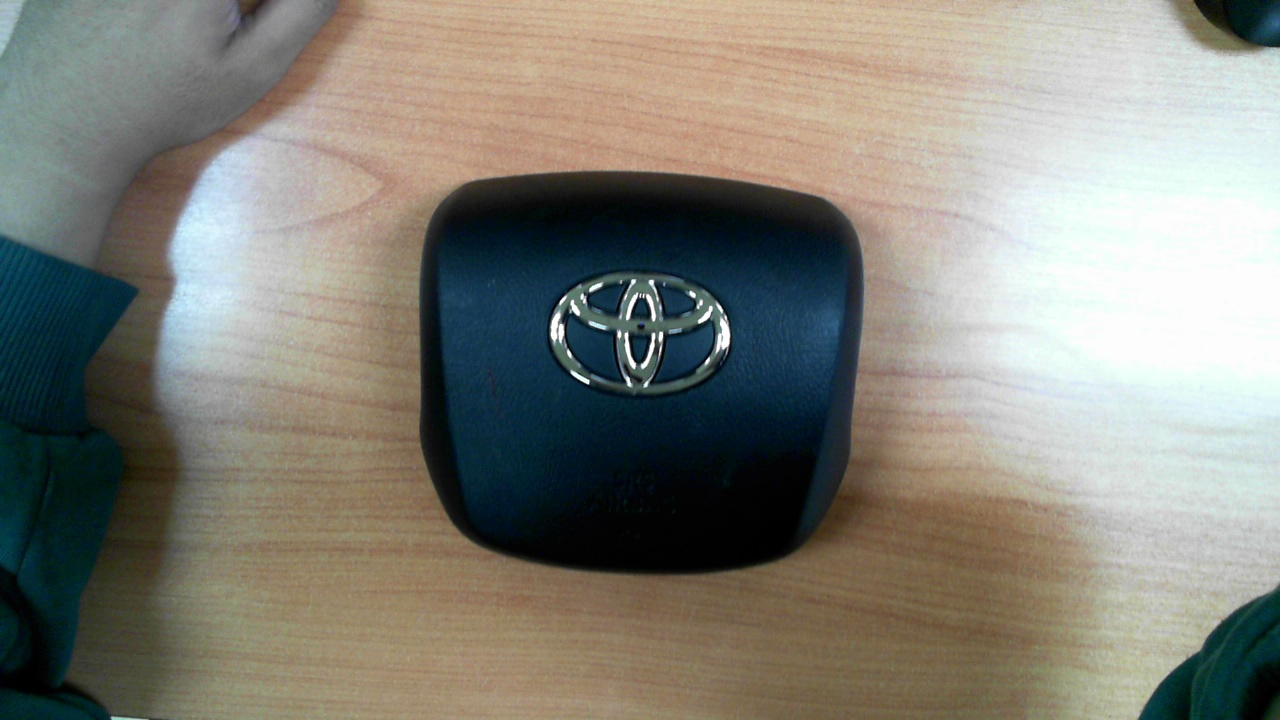Airbag: (418, 170, 865, 577)
Toyota: (550, 272, 731, 395)
